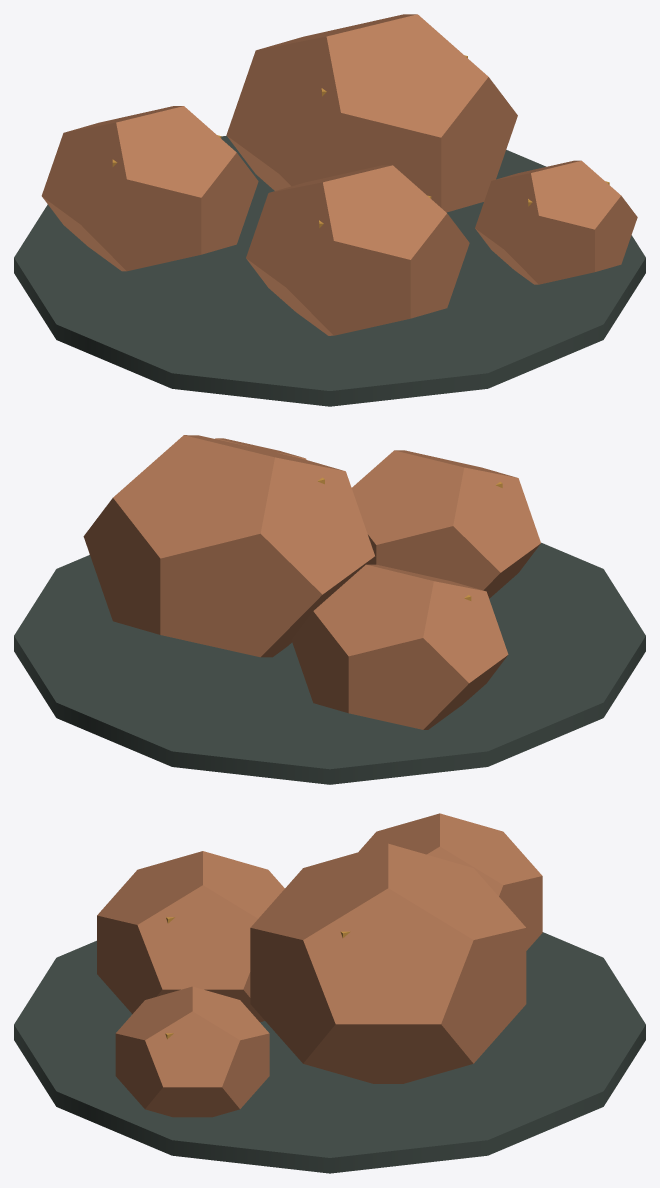
File: iron-ore.glb
3 views of the same model, one above another, from view 1: azimuth 30°, elevation 25°; view 2: azimuth 150°, elevation 25°; view 3: azimuth 270°, elevation 25° (orthographic).
Visible parts, largest first — view 1: Batched static factory; view 2: Batched static factory; view 3: Batched static factory.
Boxes of the visible parts, x1,y1,x2,y2 form: Batched static factory: (14, 14, 645, 406); Batched static factory: (14, 435, 645, 784); Batched static factory: (14, 813, 645, 1173).
Size of the model in its own units: 1.84 by 0.6714 by 1.84.
